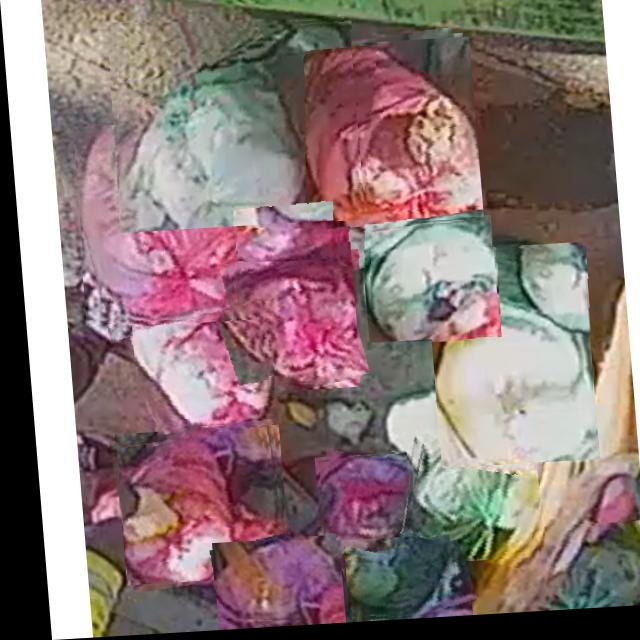general_trashbag: (114, 29, 352, 231), (429, 254, 585, 468), (403, 442, 530, 566), (364, 224, 490, 345), (336, 539, 442, 621), (540, 529, 638, 617)
other_trashbag: (309, 49, 479, 264), (75, 126, 248, 323), (114, 437, 276, 582), (226, 247, 351, 386), (128, 326, 261, 427), (205, 541, 331, 624), (313, 460, 404, 561), (232, 198, 332, 265)
